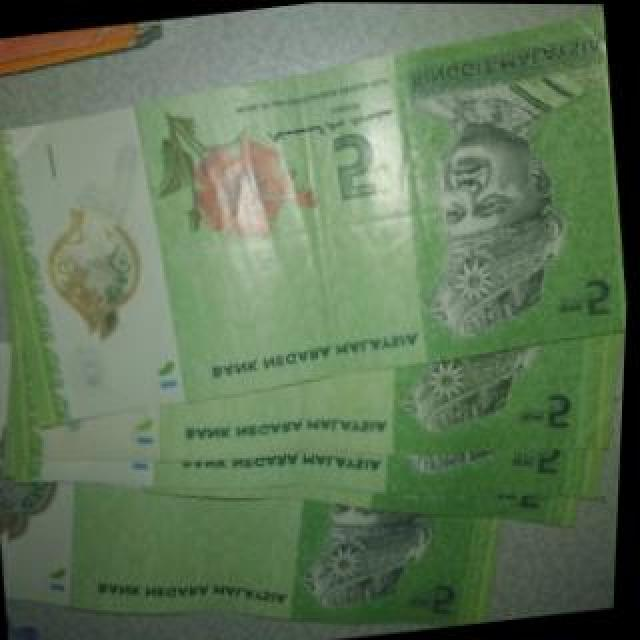5 Ringgit: (0, 30, 639, 426), (0, 422, 515, 640)
